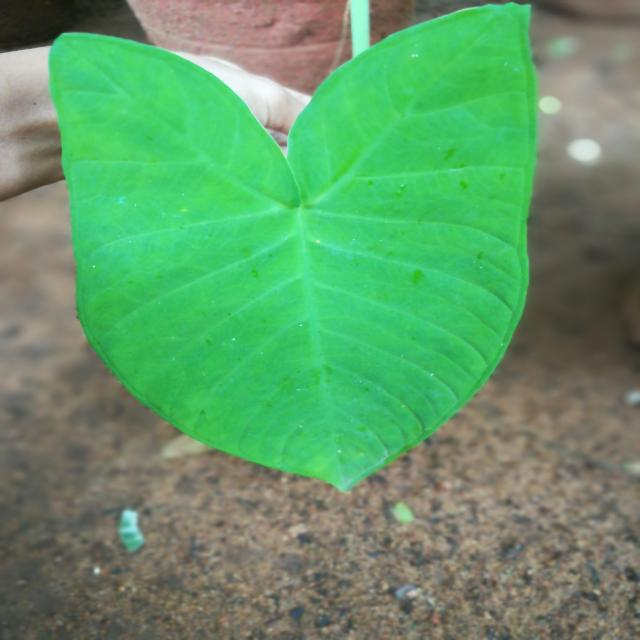taro: (50, 5, 537, 490)
